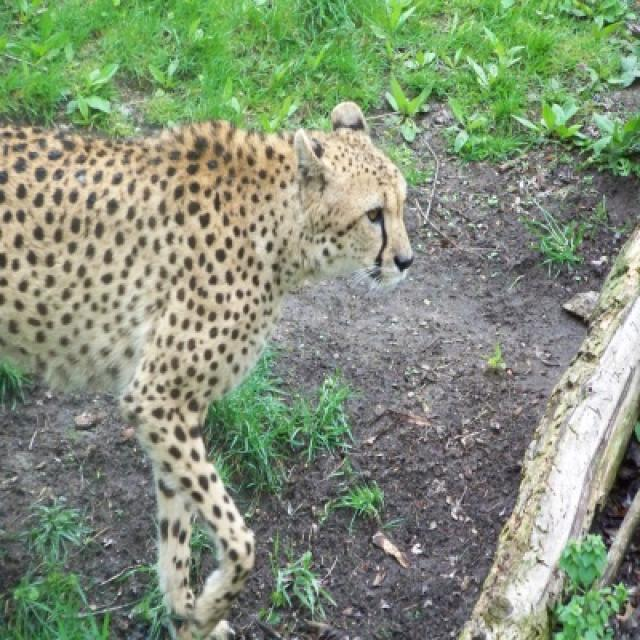Cheetah: (0, 91, 412, 629)
